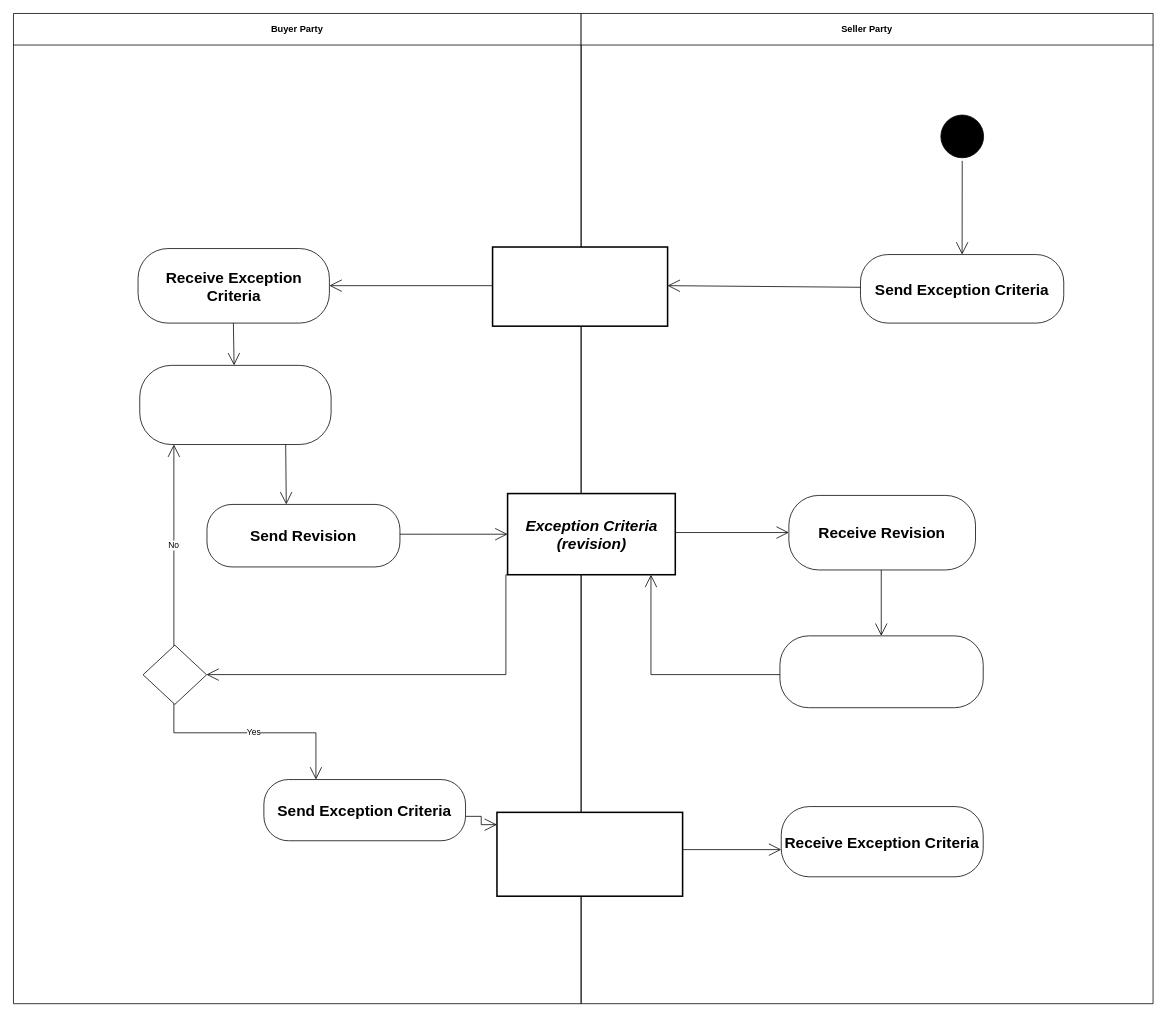
This 1167x1017 diagram has some shape labels left out. The centre of each missing label's shape, as x and y in pixels:
"Exception Criteria" belongs at (579,286).
"Exception Criteria (response positive)" belongs at (589,854).
"Review and Resend Revision" belongs at (881,671).
"Revise Exception Criteria" belongs at (235,405).
